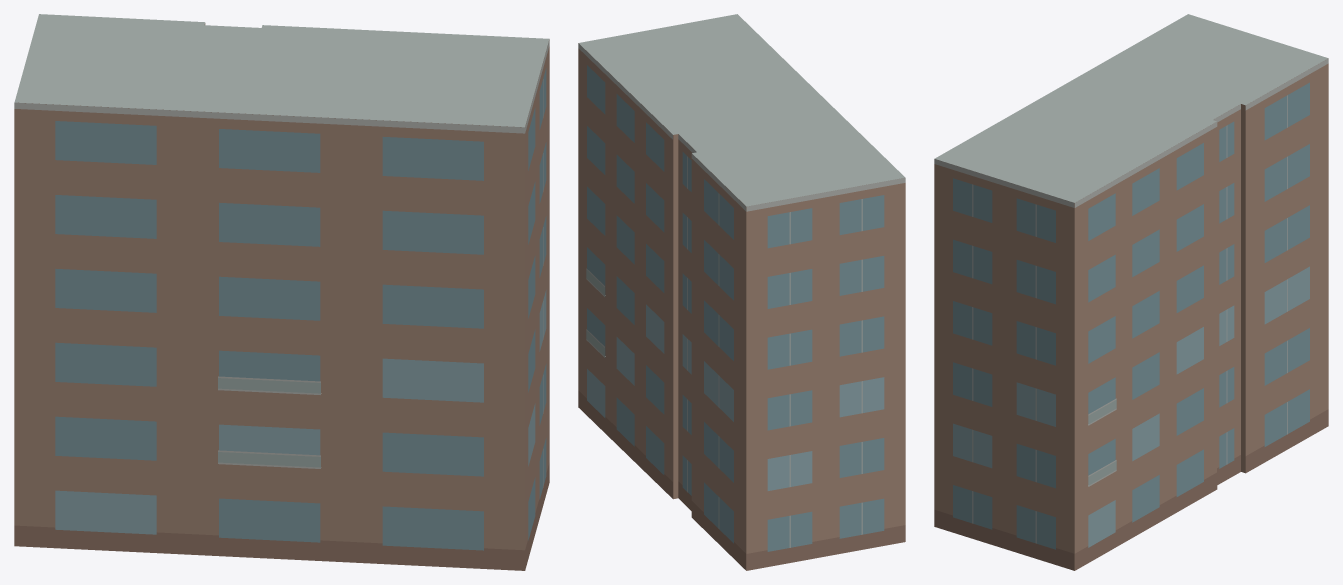
Rendered from survey-upis-32630286.glb.
The picture shows the model from 3 angles, left to right: view 1: azimuth 30°, elevation 25°; view 2: azimuth 150°, elevation 25°; view 3: azimuth 270°, elevation 25°; orthographic projection. The views are drawn at different scales.
Visible parts, largest first — view 1: survey-upis-32630286.tmp; view 2: survey-upis-32630286.tmp; view 3: survey-upis-32630286.tmp.
Part boxes in pixels (bbox=[...]): survey-upis-32630286.tmp: bbox=[14, 14, 549, 570]; survey-upis-32630286.tmp: bbox=[578, 14, 905, 570]; survey-upis-32630286.tmp: bbox=[934, 14, 1328, 570].
Size of the model in its own units: 18.94 by 17.2 by 16.7.
